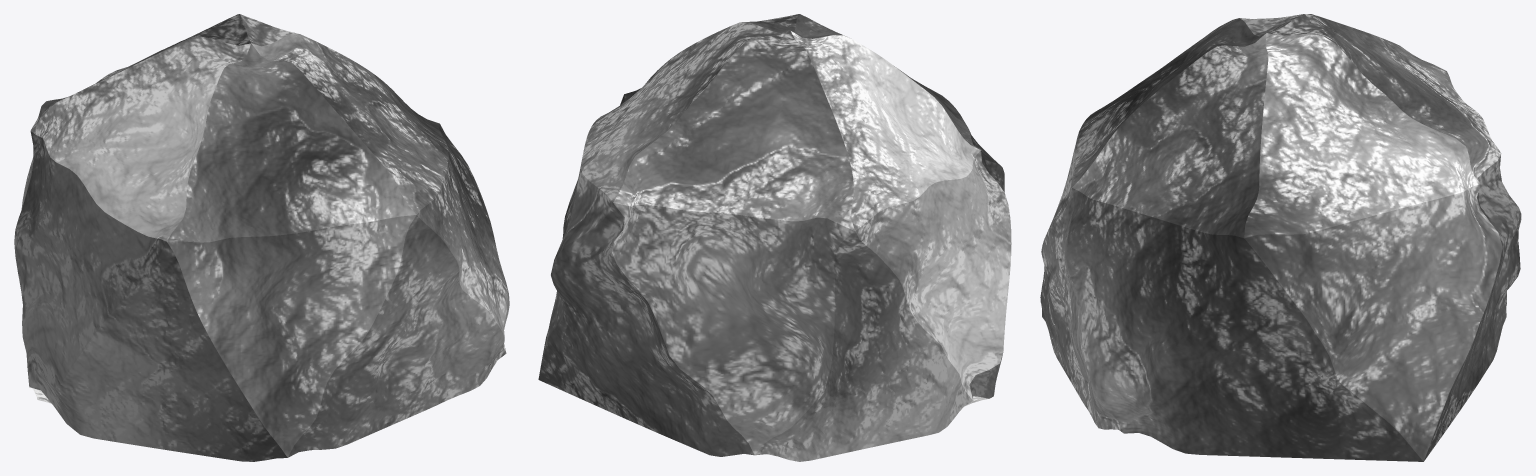
File: rock4.fbx
3 views of the same model, side by side, from view 1: azimuth 30°, elevation 25°; view 2: azimuth 150°, elevation 25°; view 3: azimuth 270°, elevation 25° (orthographic).
Parts seen in each view (by area): view 1: Icosphere; view 2: Icosphere; view 3: Icosphere.
Part boxes in pixels (<box>): Icosphere: <box>14,14,509,461</box>; Icosphere: <box>538,14,1011,461</box>; Icosphere: <box>1040,14,1521,461</box>.
Bounding box in the file's own units: 167 × 141 × 169.
